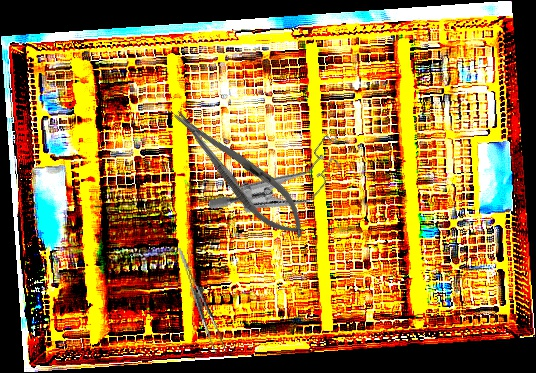Needle Holder: (161, 96, 319, 250)
Speculum: (204, 99, 358, 257)
Tissue Forceps: (177, 243, 227, 357)
